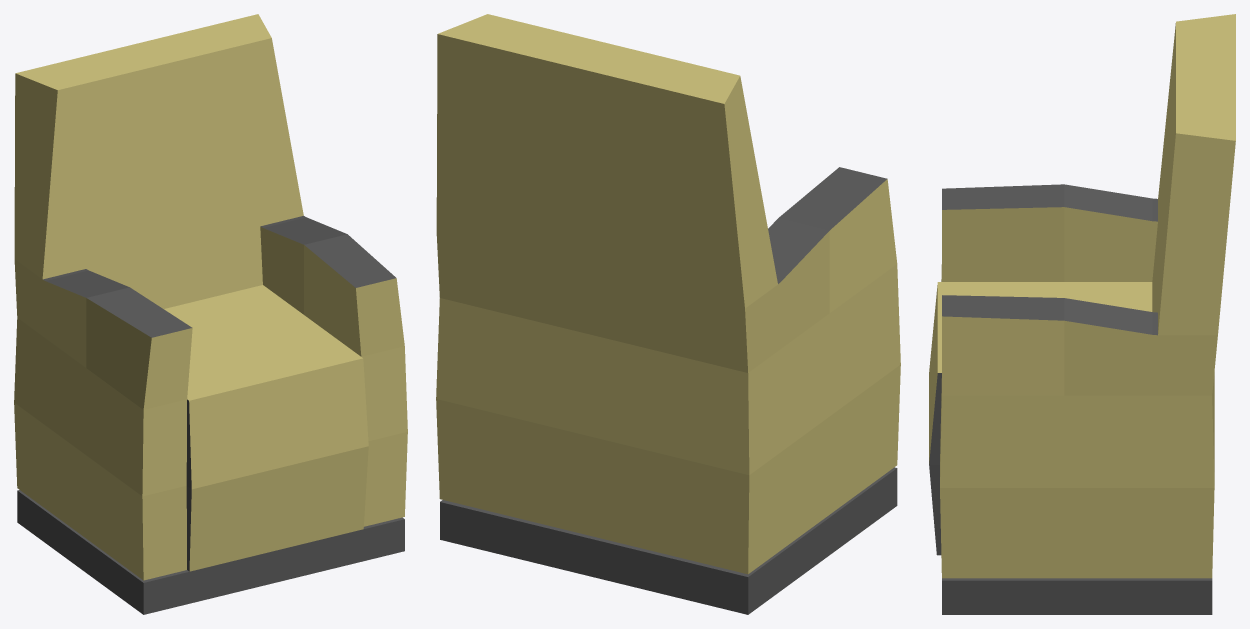
File: big_chair.fbx
The picture shows the model from 3 angles, left to right: view 1: azimuth 30°, elevation 25°; view 2: azimuth 150°, elevation 25°; view 3: azimuth 270°, elevation 25°; orthographic projection. The views are drawn at different scales.
Parts seen in each view (by area): view 1: Cube, Cube.001; view 2: Cube, Cube.001; view 3: Cube, Cube.001.
Boxes of the visible parts, x1,y1,x2,y2 form: Cube: (14,14,407,580); Cube.001: (17,490,404,614); Cube: (436,14,900,574); Cube.001: (440,467,897,614); Cube: (929,14,1235,578); Cube.001: (942,578,1212,614).
Bounding box in the file's own units: 243 × 383 × 227.
